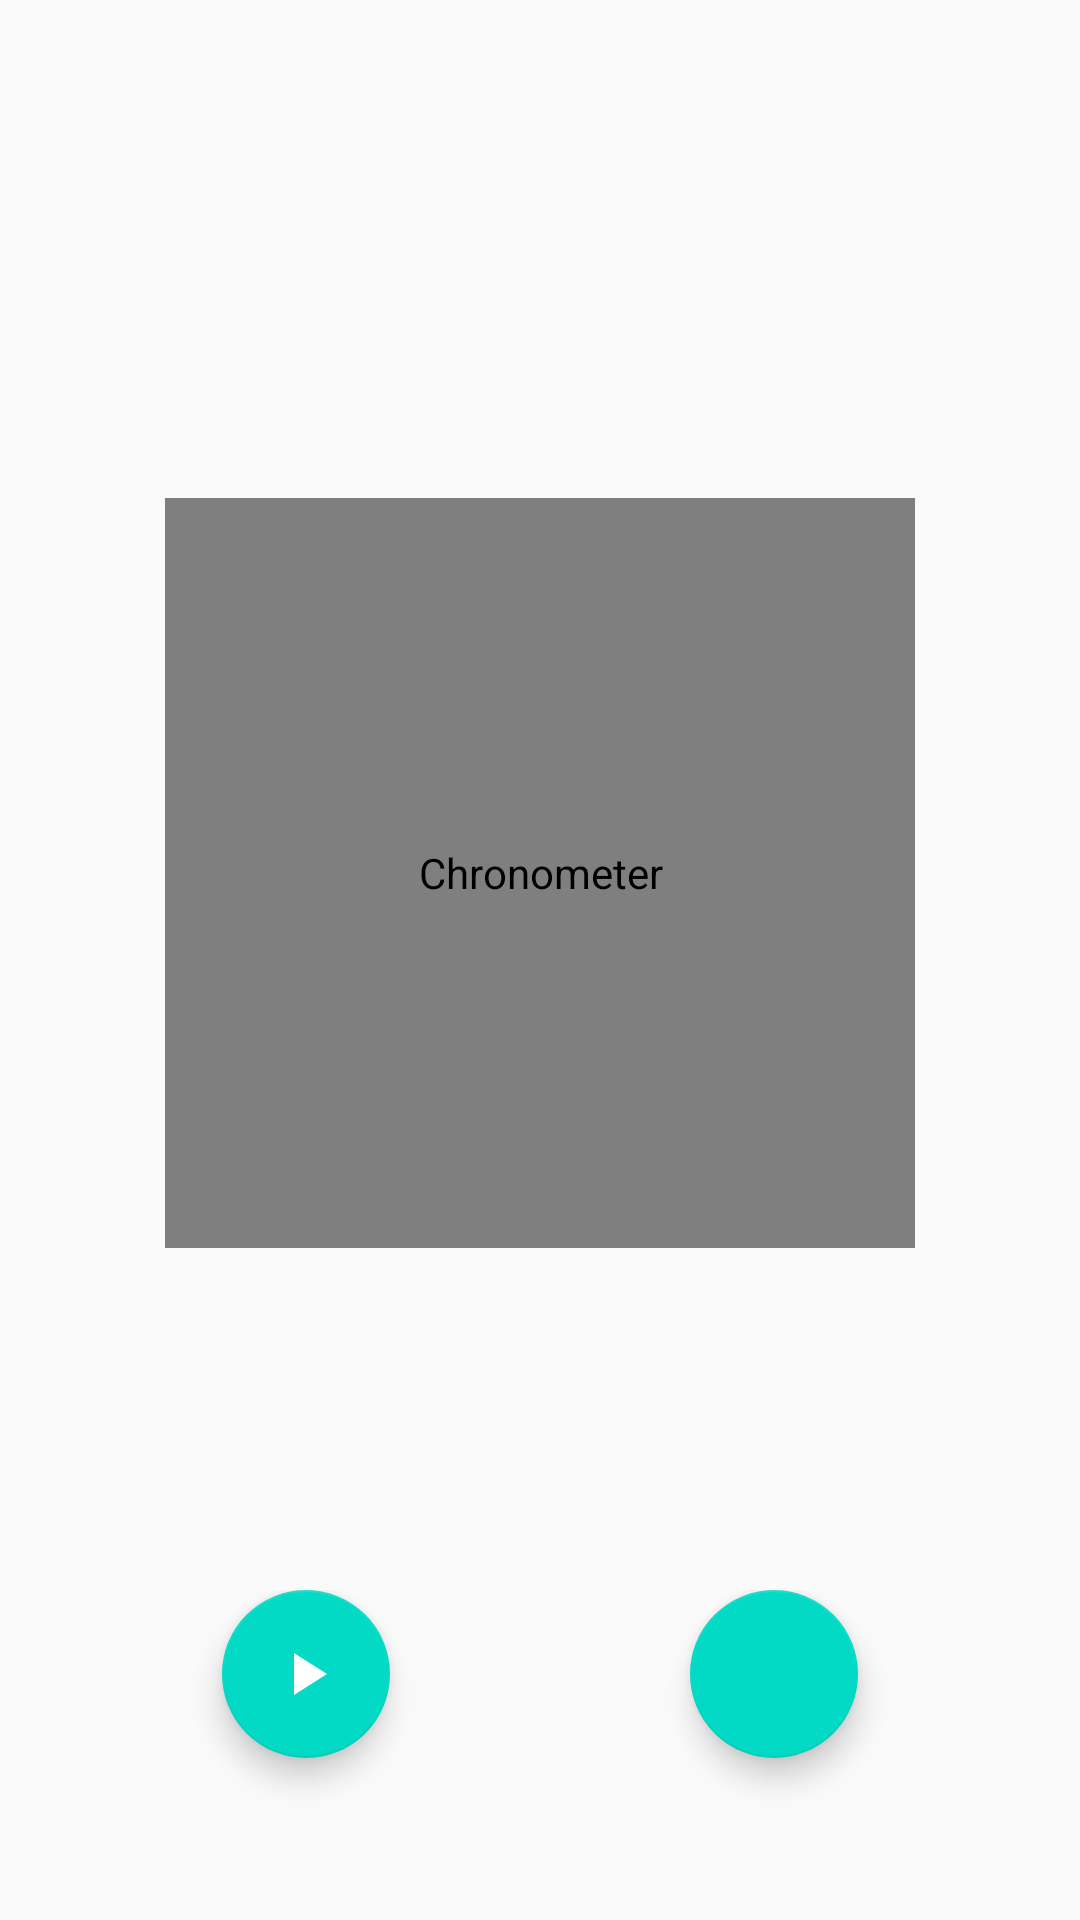

Where to tap for icons on this 1080x1920 app screen, as point (x, y):
play: point (306, 1674)
